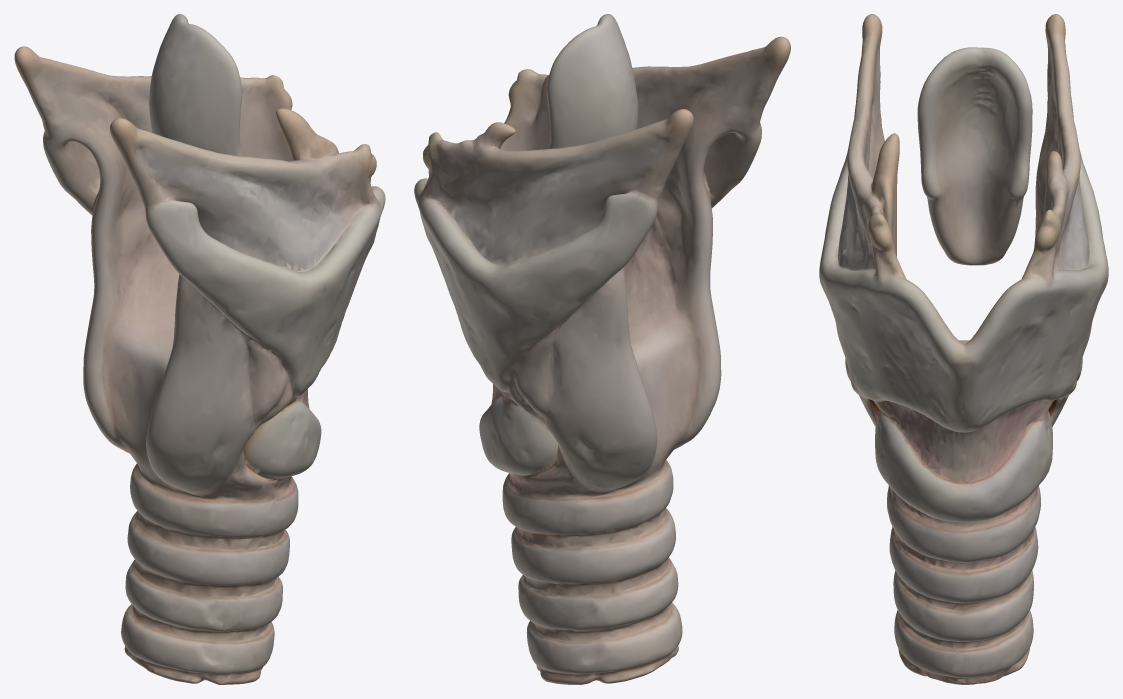
File: larynx.glb
The picture shows the model from 3 angles, left to right: view 1: azimuth 30°, elevation 25°; view 2: azimuth 150°, elevation 25°; view 3: azimuth 270°, elevation 25°; orthographic projection. The views are drawn at different scales.
Visible parts, largest first — view 1: tripo_node_d8e670ab-0467-47ab-8f76-19a43b84fae6; view 2: tripo_node_d8e670ab-0467-47ab-8f76-19a43b84fae6; view 3: tripo_node_d8e670ab-0467-47ab-8f76-19a43b84fae6.
Part boxes in pixels (<box>): tripo_node_d8e670ab-0467-47ab-8f76-19a43b84fae6: <box>14,14,385,684</box>; tripo_node_d8e670ab-0467-47ab-8f76-19a43b84fae6: <box>414,14,790,684</box>; tripo_node_d8e670ab-0467-47ab-8f76-19a43b84fae6: <box>819,14,1108,684</box>.
Bounding box in the file's own units: 0.4966 × 0.9999 × 0.4294.
1 material, 1 textured.
